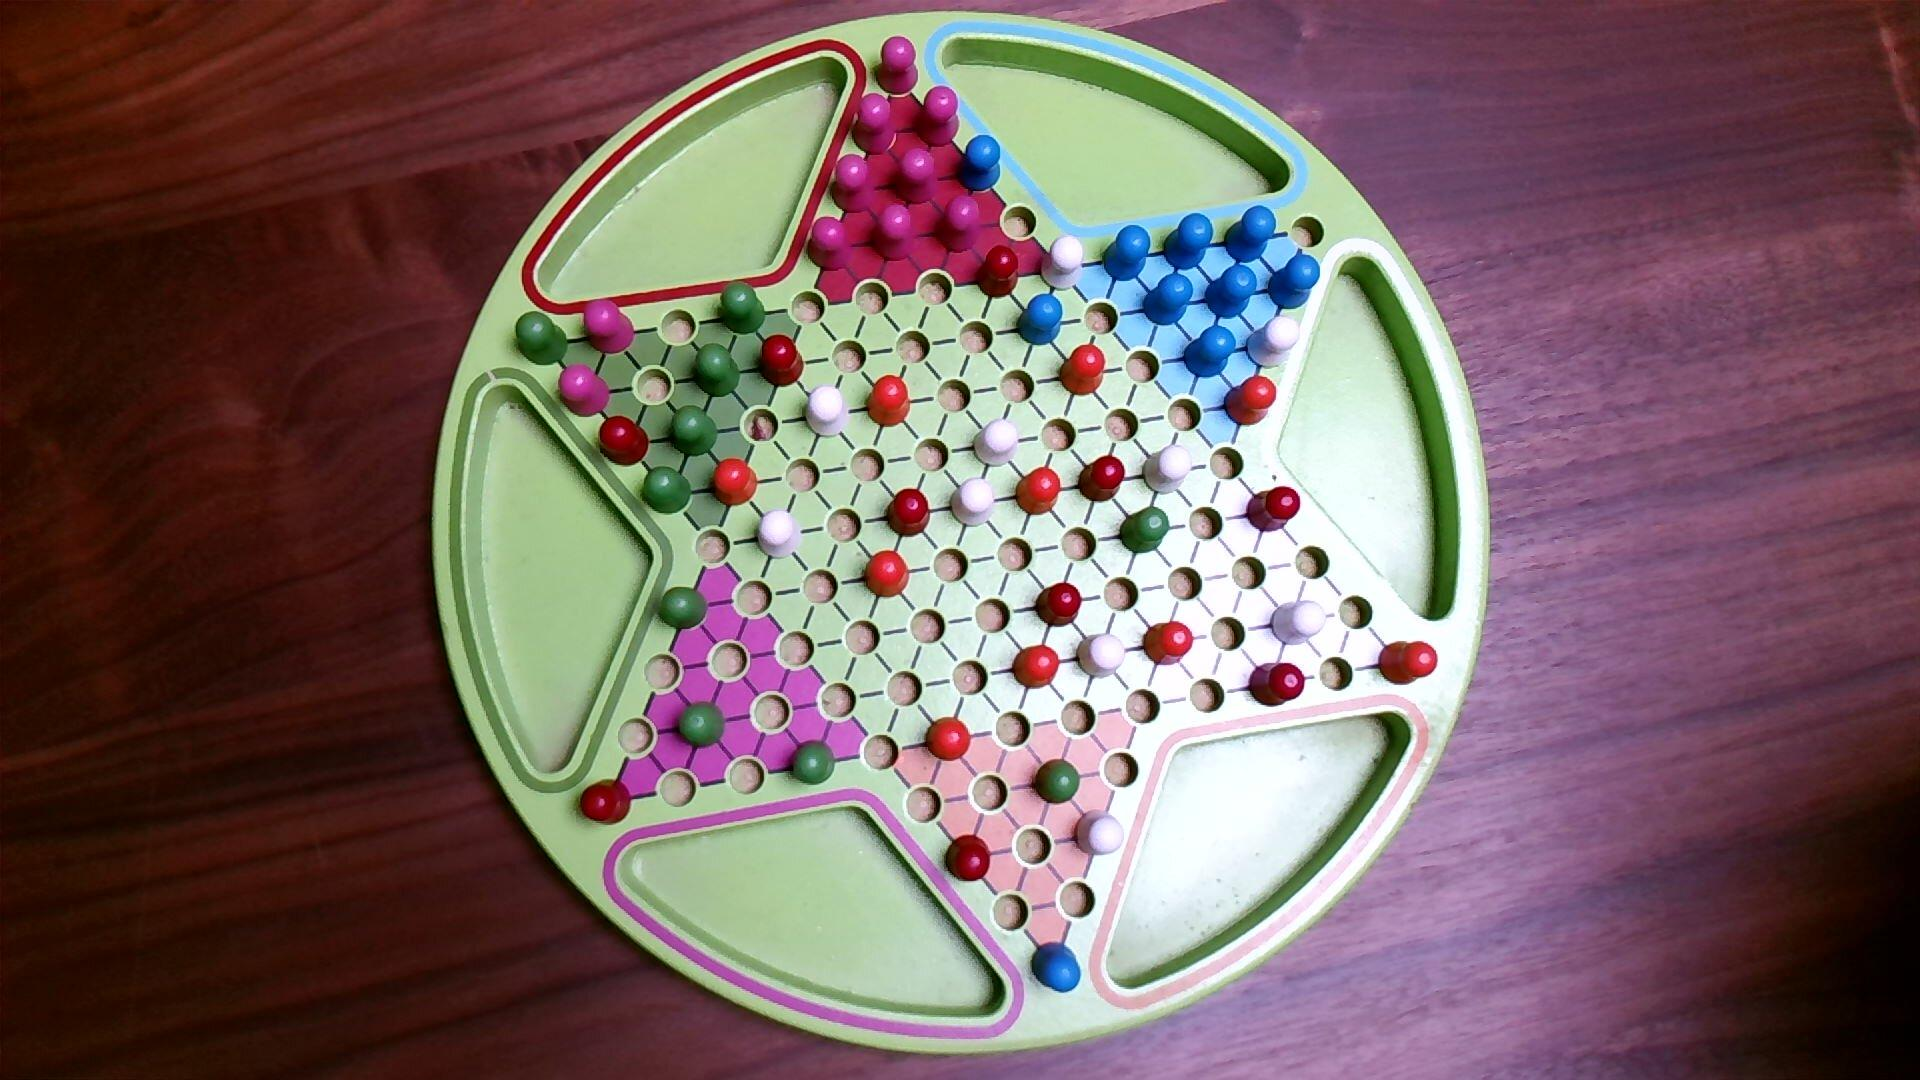B: (1160, 210, 1217, 274), (1222, 203, 1279, 266), (1267, 251, 1323, 313), (1100, 222, 1154, 285), (1182, 324, 1238, 381), (1205, 262, 1259, 322), (1030, 939, 1084, 997), (953, 133, 1004, 195), (1142, 272, 1196, 328), (1015, 291, 1065, 348)
G: (513, 309, 571, 368), (690, 342, 745, 401), (716, 277, 769, 339), (665, 404, 721, 460), (640, 463, 698, 517), (675, 699, 729, 753), (1120, 502, 1174, 556), (1031, 757, 1084, 808), (787, 736, 837, 789), (658, 584, 711, 633)
O: (1222, 373, 1280, 429), (1378, 640, 1440, 688), (1059, 342, 1108, 400), (1141, 620, 1196, 669), (709, 458, 760, 508), (1011, 642, 1062, 692), (864, 549, 913, 600), (1014, 465, 1063, 517), (866, 375, 913, 429), (924, 716, 975, 764)
R: (597, 413, 651, 469), (578, 775, 636, 828), (1245, 484, 1304, 535), (972, 243, 1023, 302), (756, 332, 807, 390), (1247, 659, 1307, 709), (1075, 451, 1127, 506), (882, 487, 935, 541), (1033, 578, 1087, 630), (943, 832, 994, 886)
R2: (580, 295, 638, 357), (870, 33, 924, 99), (848, 88, 899, 157), (827, 152, 880, 218), (932, 191, 984, 258), (913, 83, 963, 152), (556, 363, 613, 421), (868, 199, 916, 266), (891, 144, 942, 208), (804, 215, 855, 274)
W: (1245, 314, 1303, 371), (1139, 440, 1195, 497), (1269, 596, 1329, 647), (802, 382, 853, 440), (971, 415, 1023, 469), (949, 476, 1000, 531), (1039, 233, 1087, 291), (1075, 807, 1127, 858), (1075, 632, 1127, 682), (756, 506, 804, 560)
